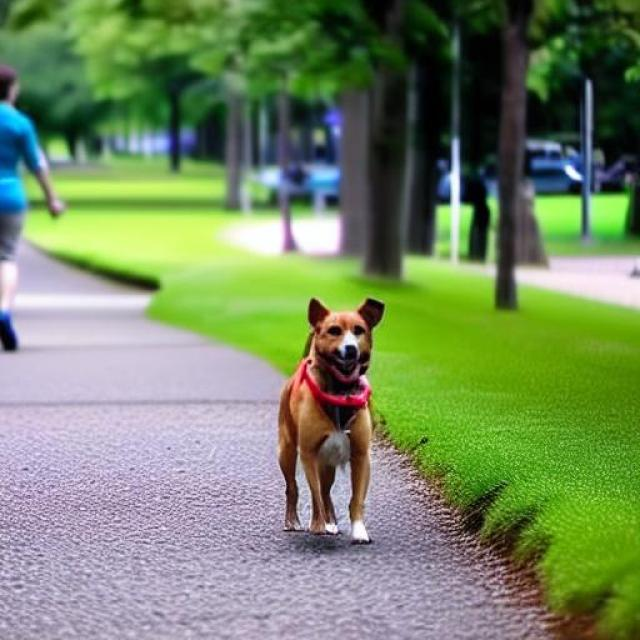Dog: (276, 296, 385, 544)
